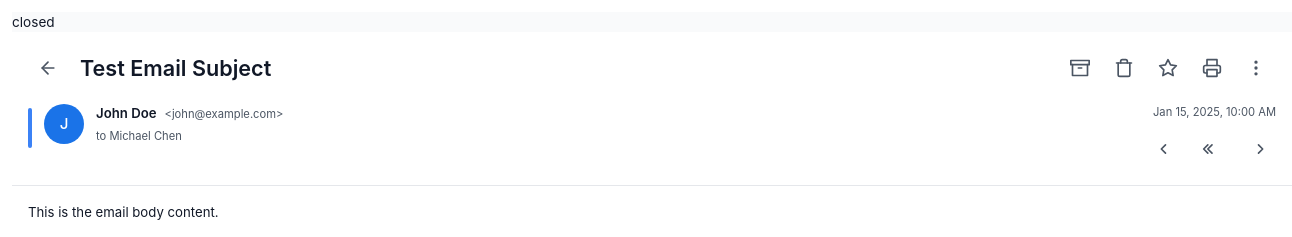
Test case: Email Reply Functionality › clicking Reply All opens compose with mode=replyAll
Step 1. Click the button named "reply all" → (1212, 149), box [1192,129,1232,169]
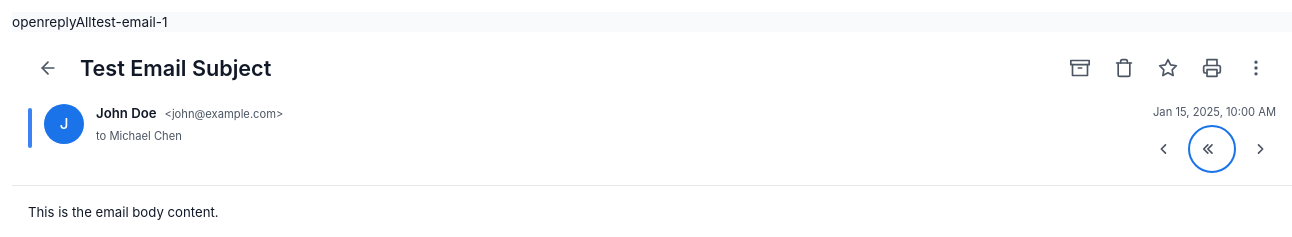
Now the text with test id "compose-state" reads "open", box [12,14,44,30]
Now the text with test id "compose-mode" reads "replyAll", box [44,14,92,30]
Now the text with test id "compose-reply-to" reads "test-email-1", box [92,14,168,30]
